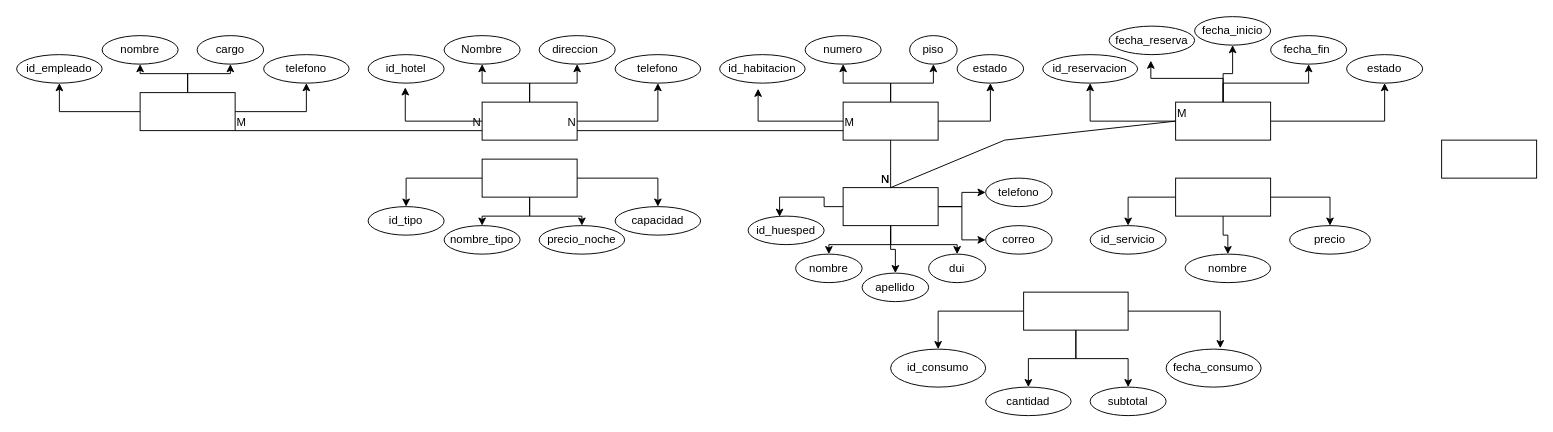
This 1553x432 diagram has some shape labels left out. The box of each missing label's shape, as (x1, y1, x2, y2) in pixels:
Consumo_Servicio: (1023, 291, 1128, 330)
Empleado: (139, 92, 235, 131)
Factura: (1441, 139, 1537, 178)
Habitacion: (842, 101, 938, 140)
Hotel: (481, 101, 577, 140)
Huesped: (842, 187, 938, 226)
Reservacion: (1175, 101, 1271, 140)
Servicio: (1175, 177, 1271, 216)
Tipo_Habitacion: (481, 158, 577, 197)
